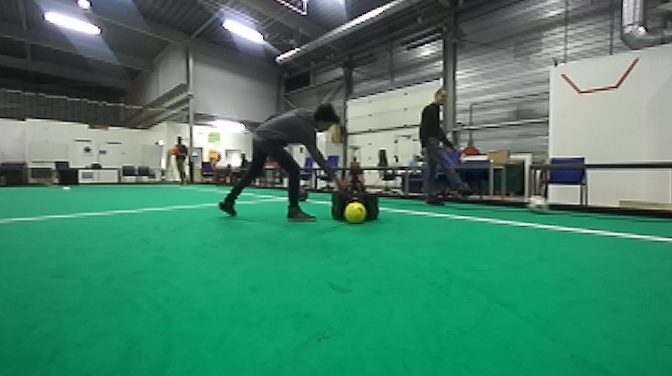ball: (343, 199, 368, 226), (527, 193, 548, 215)
human: (215, 98, 342, 225), (415, 86, 463, 209)
